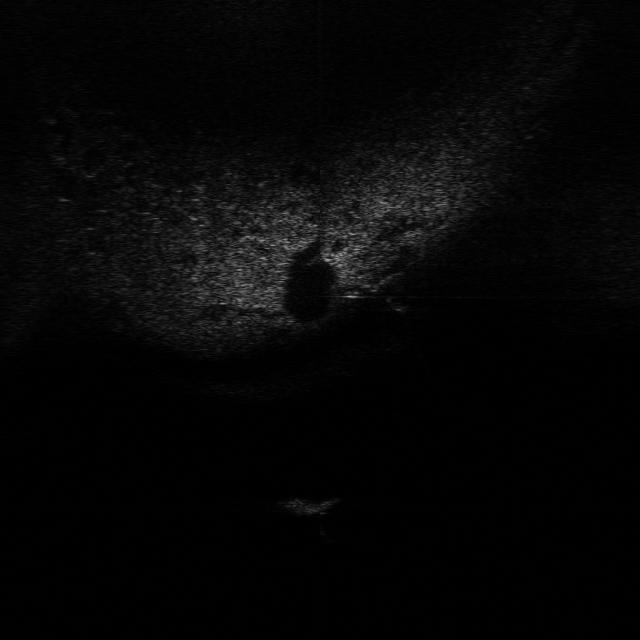ball: (381, 282, 418, 312)
cube: (276, 490, 342, 516)
